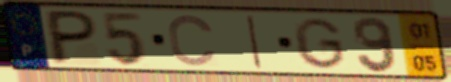5: (97, 10, 151, 68)
9: (351, 14, 400, 75)
C: (166, 13, 220, 69)
G: (290, 16, 348, 71)
I: (245, 13, 265, 71)
P: (47, 8, 101, 67)
